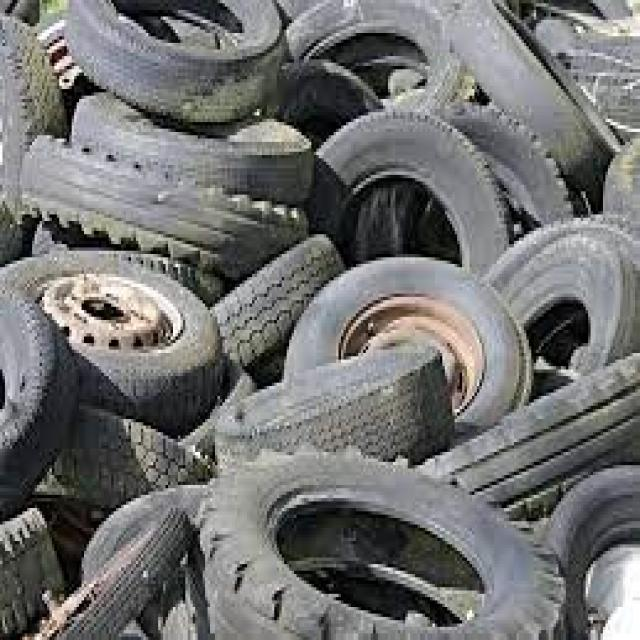Rubber -Non-Biodegradable but Recyclable-: (3, 4, 638, 636)
